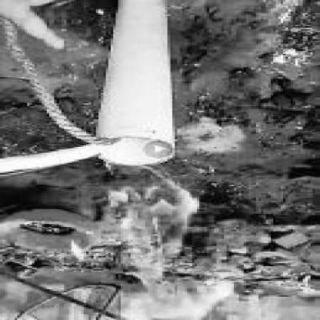Fire: (52, 156, 262, 319)
